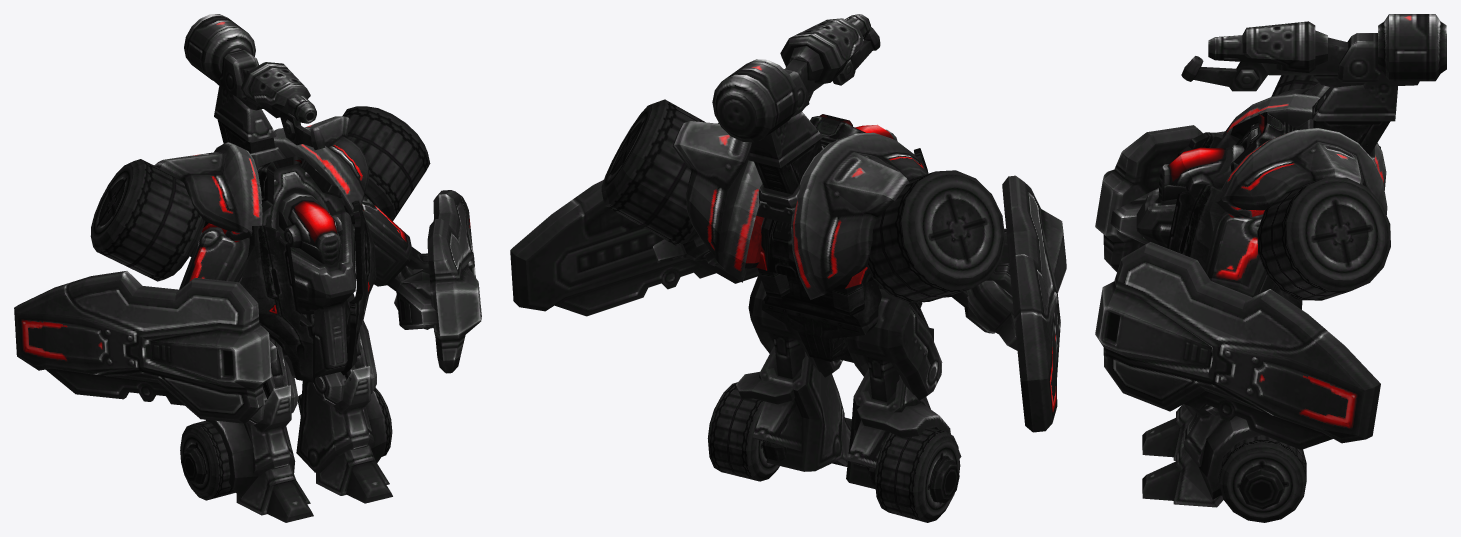
Rendered from Hellbat.obj.
3 renders of one model, left to right at view 1: azimuth 30°, elevation 25°; view 2: azimuth 150°, elevation 25°; view 3: azimuth 270°, elevation 25°, orthographic. The views are drawn at different scales.
Visible parts, largest first — view 1: Shadow_Hellbat.m3; view 2: Shadow_Hellbat.m3; view 3: Shadow_Hellbat.m3.
Part boxes in pixels (x1=…): Shadow_Hellbat.m3: x1=14, y1=14, x2=481, y2=522; Shadow_Hellbat.m3: x1=510, y1=14, x2=1066, y2=522; Shadow_Hellbat.m3: x1=1095, y1=14, x2=1446, y2=522.
Size of the model in its own units: 2.32 by 1.99 by 1.39.
Materials: 1 (1 with a texture image).
